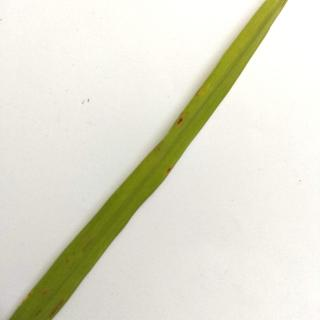bercak-Cokelat: (178, 114, 190, 130), (165, 163, 177, 176)
